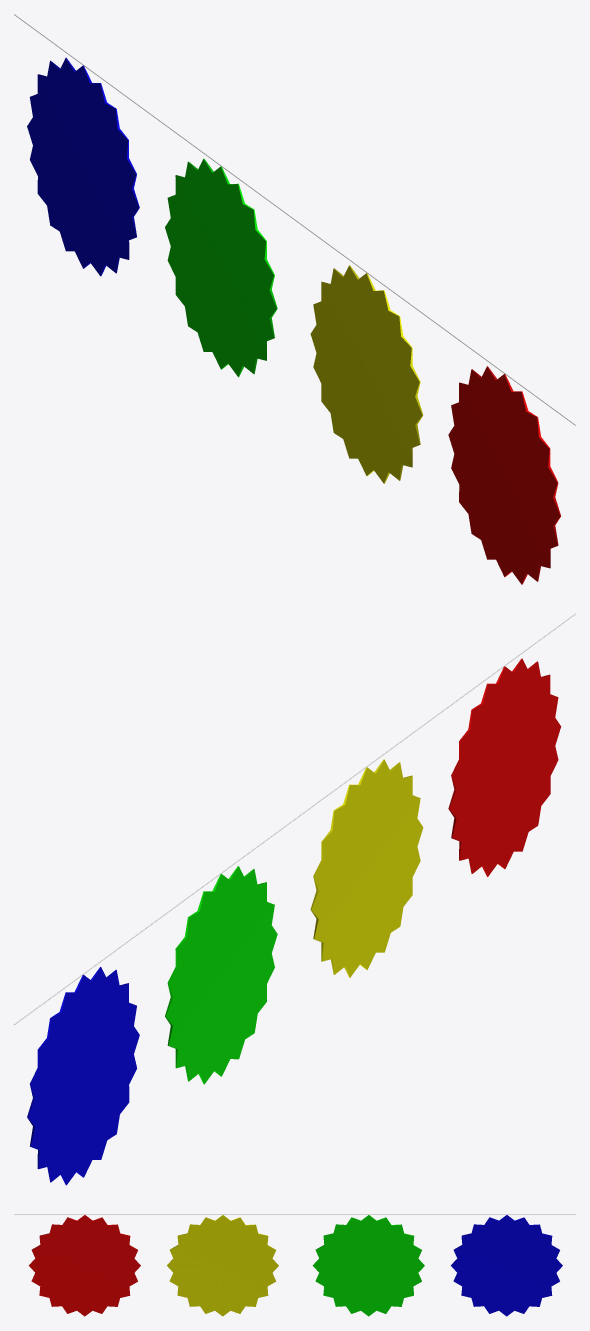
Rendered from colorfulsuns.fbx.
The picture shows the model from 3 angles, top to bottom: view 1: azimuth 30°, elevation 25°; view 2: azimuth 150°, elevation 25°; view 3: azimuth 270°, elevation 25°; orthographic projection. The views are drawn at different scales.
Parts seen in each view (by area): view 1: pCylinder4, pCylinder1, pCylinder3, pCylinder5, pCylinder2; view 2: pCylinder4, pCylinder1, pCylinder3, pCylinder5, pCylinder2; view 3: pCylinder5, pCylinder3, pCylinder4, pCylinder1, pCylinder2.
Boxes of the visible parts, bbox=[...] form: pCylinder4: bbox=[27, 57, 139, 276]; pCylinder1: bbox=[448, 366, 560, 584]; pCylinder3: bbox=[310, 265, 423, 483]; pCylinder5: bbox=[165, 158, 277, 377]; pCylinder2: bbox=[14, 14, 575, 425]; pCylinder4: bbox=[27, 967, 139, 1185]; pCylinder1: bbox=[448, 658, 561, 876]; pCylinder3: bbox=[310, 759, 423, 977]; pCylinder5: bbox=[165, 866, 277, 1084]; pCylinder2: bbox=[14, 613, 575, 1024]; pCylinder5: bbox=[312, 1215, 424, 1316]; pCylinder3: bbox=[167, 1215, 278, 1316]; pCylinder4: bbox=[451, 1215, 562, 1316]; pCylinder1: bbox=[29, 1215, 140, 1316]; pCylinder2: bbox=[14, 1214, 575, 1214].
Size of the model in its own units: 1.14 by 97.45 by 486.
